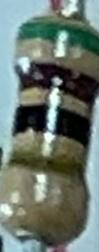Black: (10, 104, 90, 148)
Brown: (16, 62, 97, 104)
Green: (15, 18, 96, 54)
Side-Gold: (4, 149, 87, 186)
